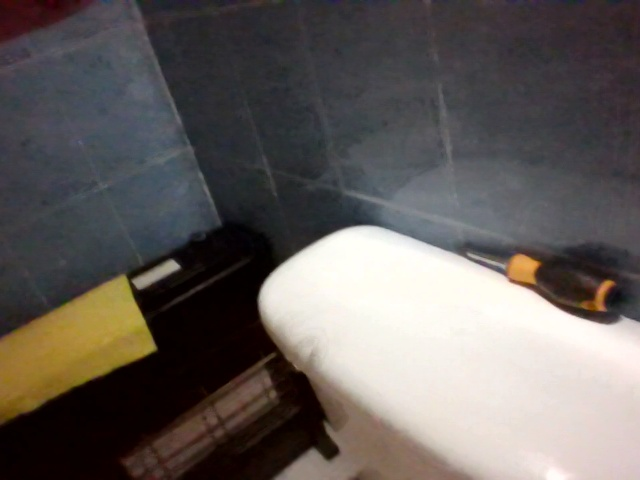destornillador: (454, 249, 622, 315)
